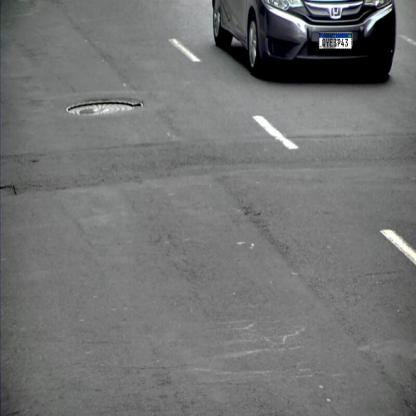PlacaM: (319, 34, 352, 50)
